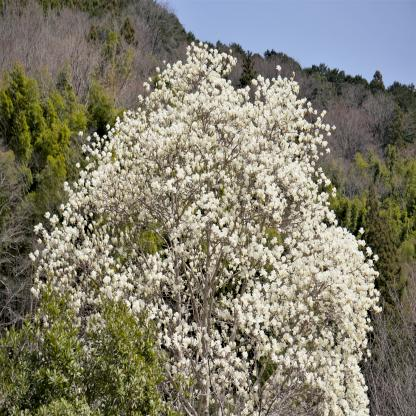Mokuren: (28, 39, 382, 416)
